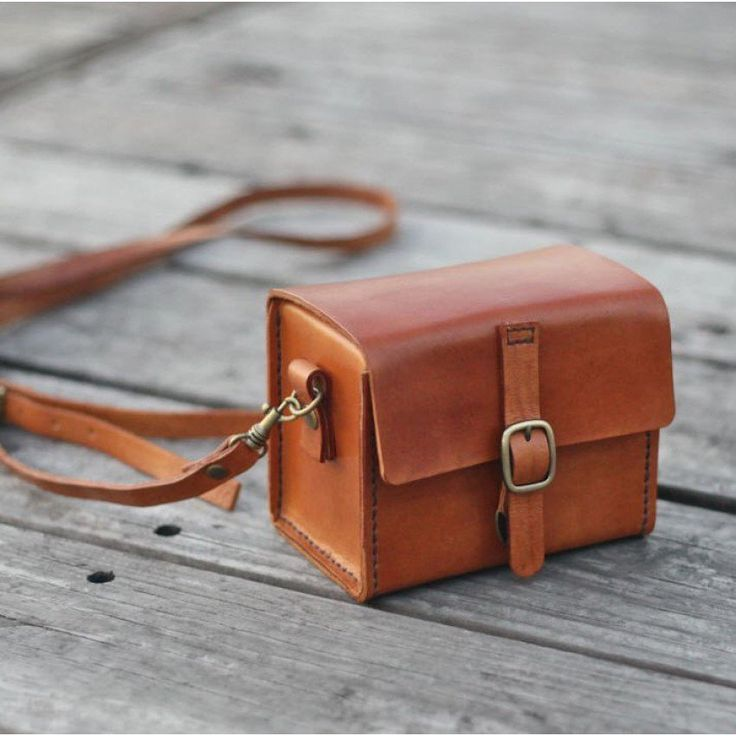cuero: (1, 184, 678, 604)
